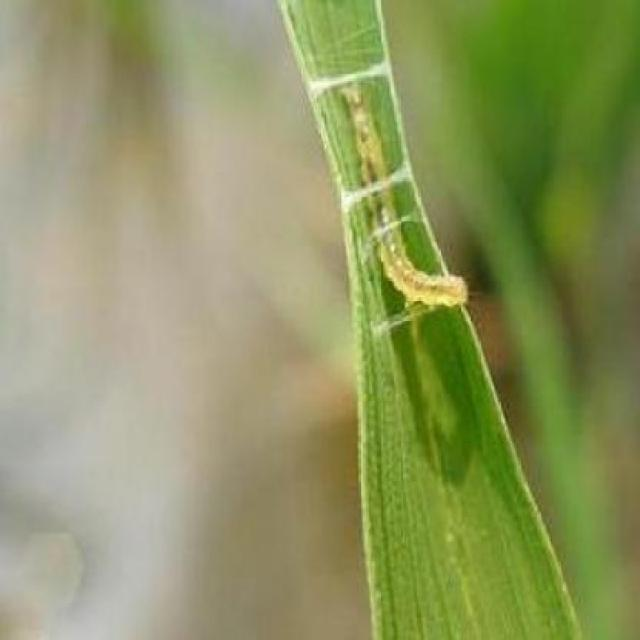leaf-folder: (318, 49, 470, 349)
